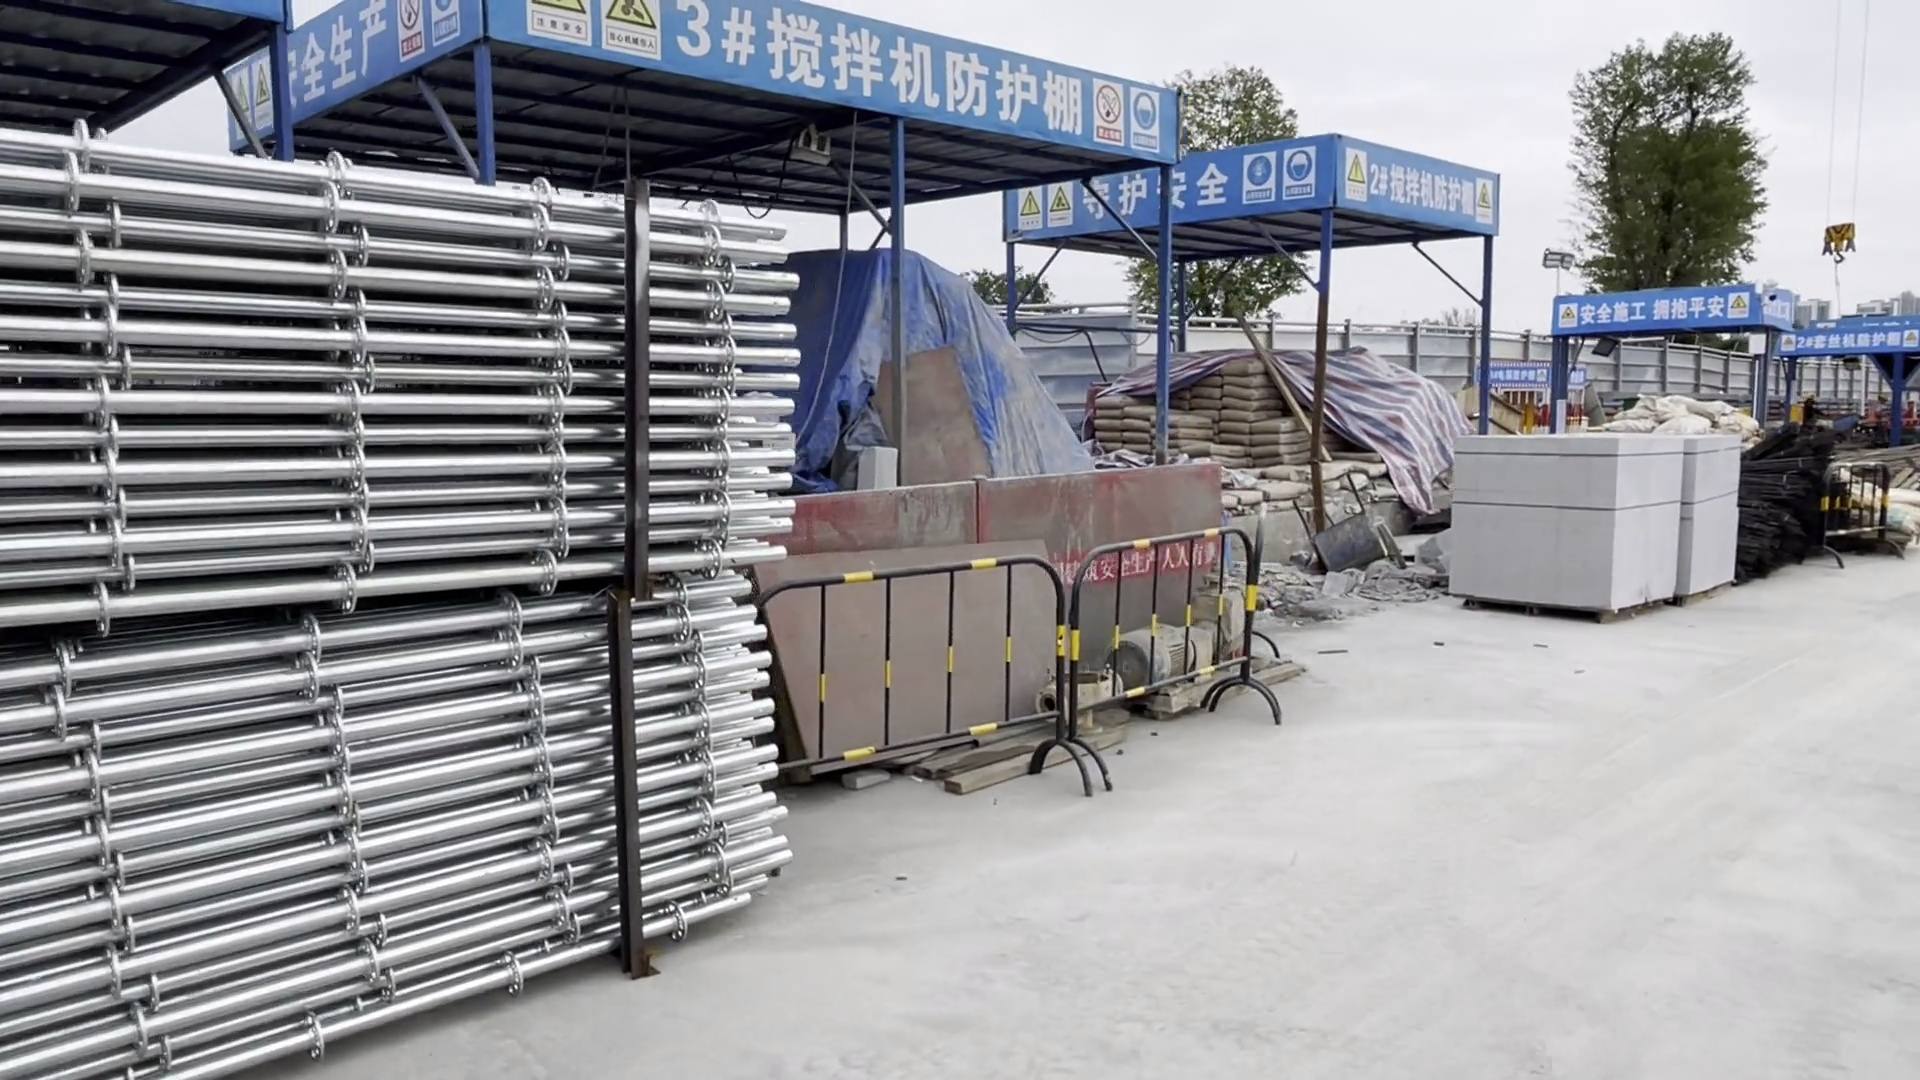brick: (1440, 421, 1693, 632), (1672, 422, 1745, 609)
scaffold: (1, 138, 836, 636), (1, 572, 800, 1080)
slogan: (1006, 142, 1313, 233), (1545, 284, 1778, 338), (1084, 73, 1164, 169)
